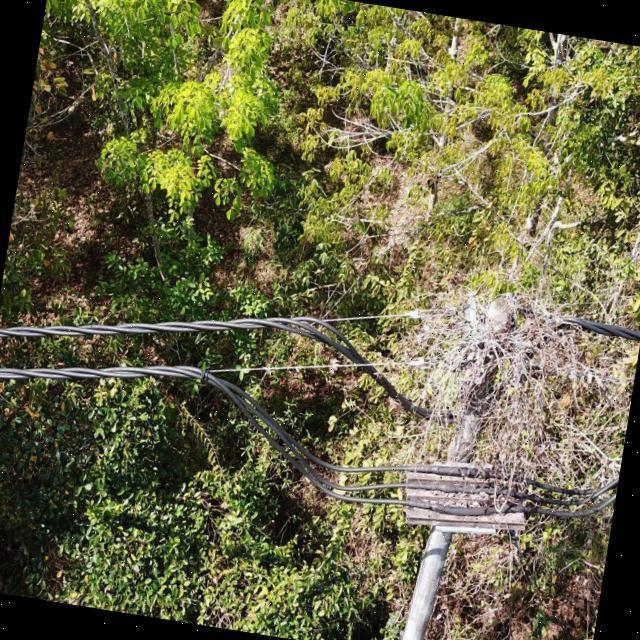critical vegetation: (358, 262, 640, 539)
